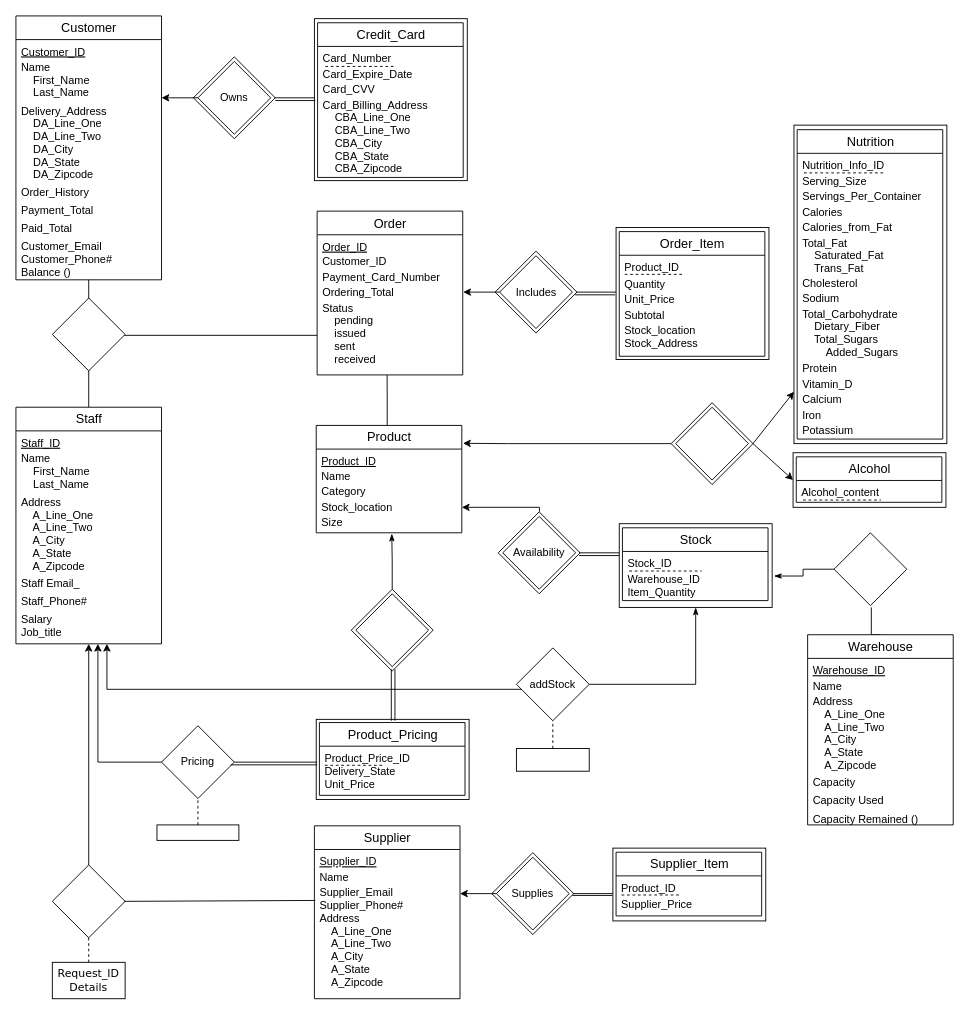
Some shapes in this 969 by 1017 pixel diagram are drawn without their labels. Here are the shapes that lost their labels. From the top down, the centre of each, then its label:
the point at 88,334: Ordering
the point at 711,443: Label
the point at 870,569: Stores
the point at 392,630: GetPrice
the point at 552,759: Add_Quantity
the point at 197,832: New_Price
the point at 88,901: Request
